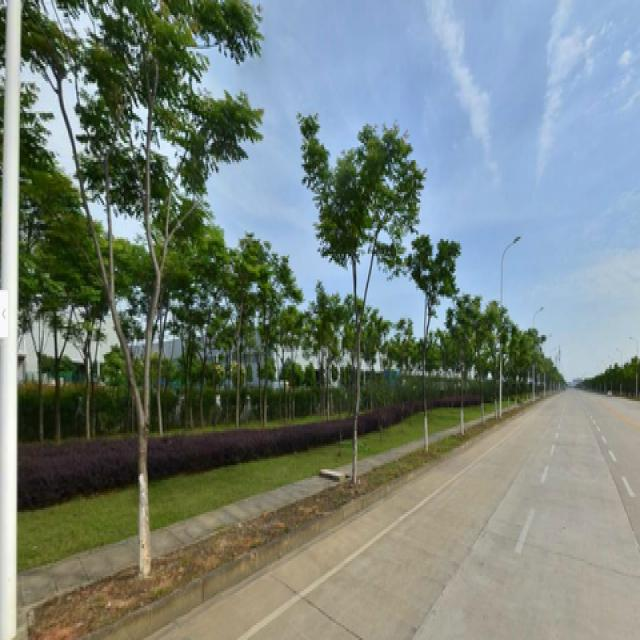koel: (57, 17, 215, 563), (317, 126, 391, 495), (413, 228, 452, 448)
